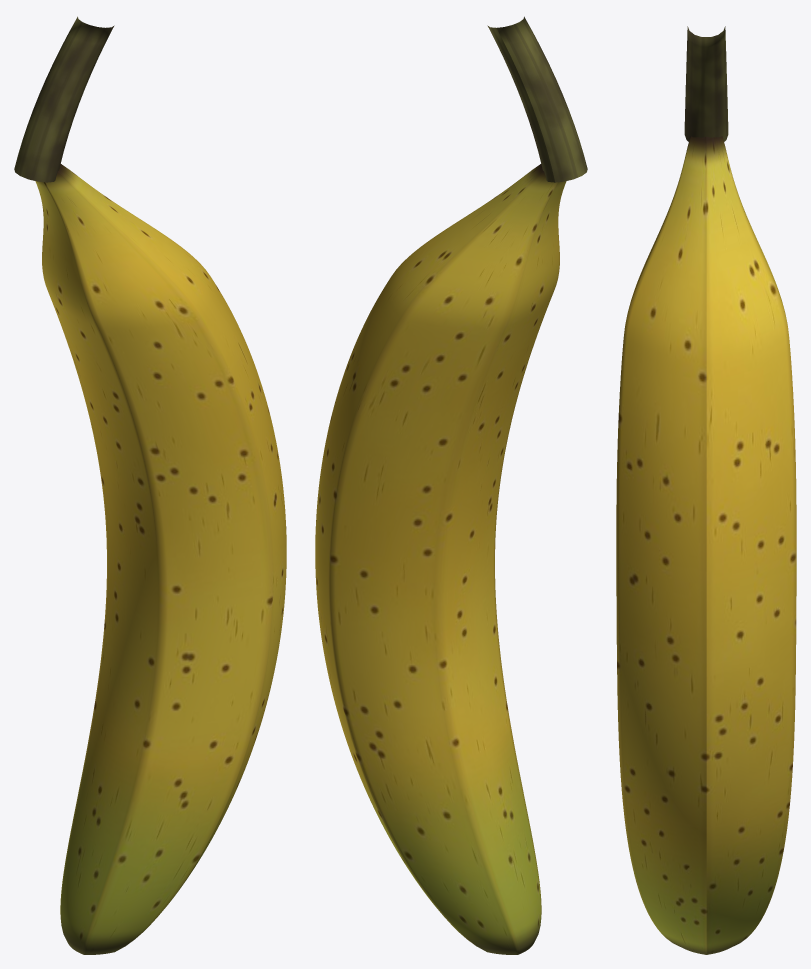
File: banane.glb
3 renders of one model, left to right at view 1: azimuth 30°, elevation 25°; view 2: azimuth 150°, elevation 25°; view 3: azimuth 270°, elevation 25°, orthographic.
Visible parts, largest first — view 1: entier_peau, moitie_A_peau, moitie_B_peau, entier_extra0; view 2: entier_peau, moitie_B_peau, moitie_A_peau, entier_extra0; view 3: entier_peau, moitie_A_peau, moitie_B_peau, entier_extra0.
Part boxes in pixels (x1,y1,x2,y2): entier_peau: [35, 164, 286, 954]; moitie_A_peau: [39, 164, 286, 954]; moitie_B_peau: [36, 181, 126, 949]; entier_extra0: [14, 16, 114, 182]; entier_peau: [315, 164, 565, 954]; moitie_B_peau: [315, 164, 563, 954]; moitie_A_peau: [475, 181, 566, 949]; entier_extra0: [487, 16, 587, 182]; entier_peau: [616, 136, 796, 954]; moitie_A_peau: [616, 137, 706, 954]; moitie_B_peau: [706, 137, 796, 954]; entier_extra0: [684, 26, 728, 141].
Size of the model in its own units: 0.0583 by 0.196 by 0.0344.
3 materials, 3 textured.
